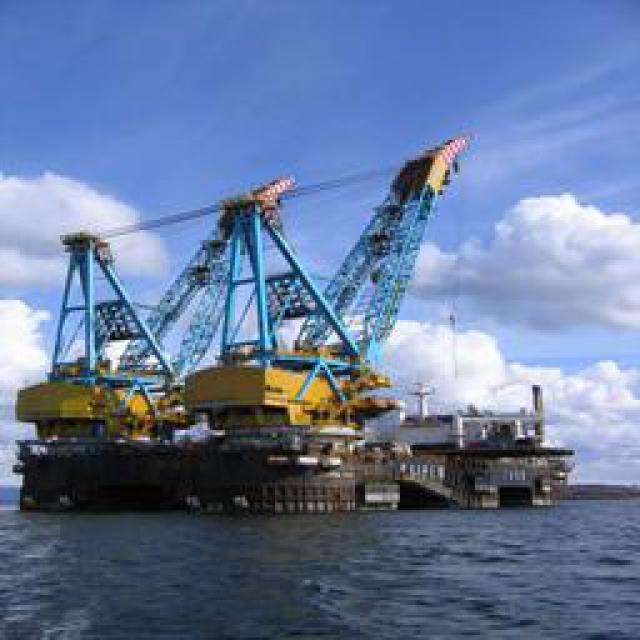Ship: (27, 137, 515, 497)
